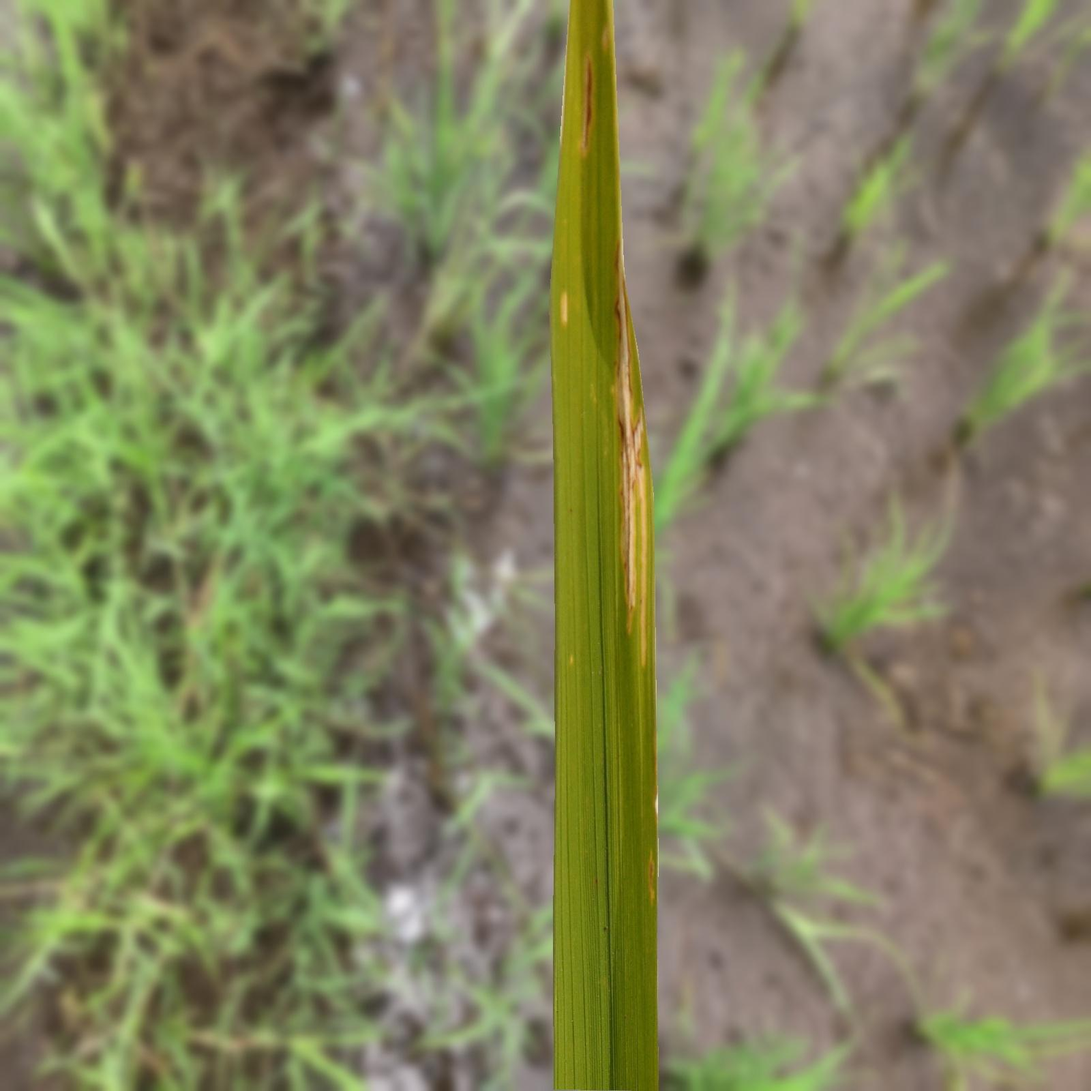BLS: (613, 239, 648, 668), (580, 52, 593, 156)
LEAF: (549, 0, 658, 1090)
